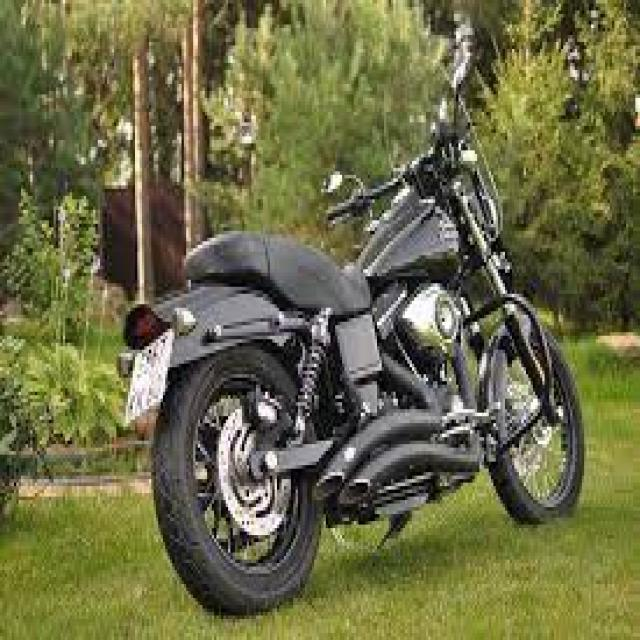Bike: (127, 80, 591, 611)
